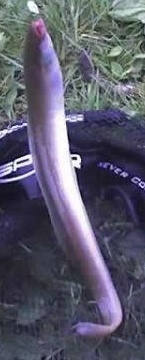Anguilla anguilla: (20, 20, 125, 340)
